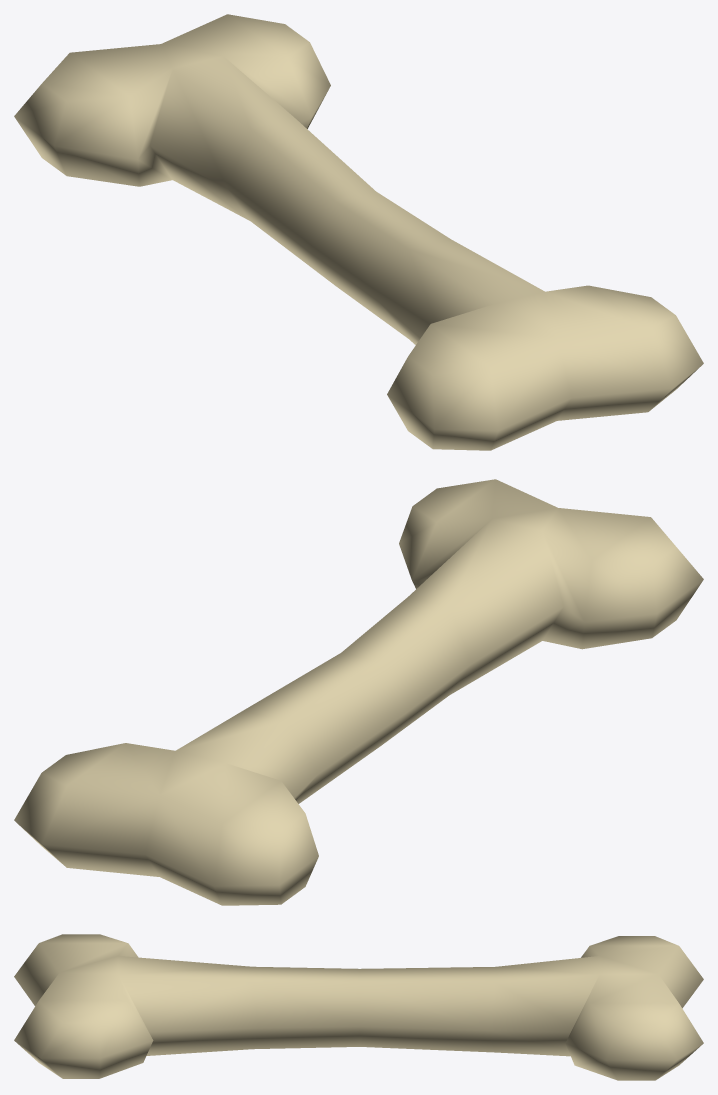
File: P_bone_01.fbx
3 renders of one model, top to bottom at view 1: azimuth 30°, elevation 25°; view 2: azimuth 150°, elevation 25°; view 3: azimuth 270°, elevation 25°, orthographic. The views are drawn at different scales.
Visible parts, largest first — view 1: lod1; view 2: lod1; view 3: lod1.
Part boxes in pixels (left/top/right/bottom): lod1: left=14, top=14, right=703, bottom=450; lod1: left=14, top=479, right=703, bottom=905; lod1: left=14, top=934, right=703, bottom=1080.
Size of what is drawn, in the model's own units: 15.91 by 6.17 by 46.26.
Materials: 1 (1 with a texture image).
